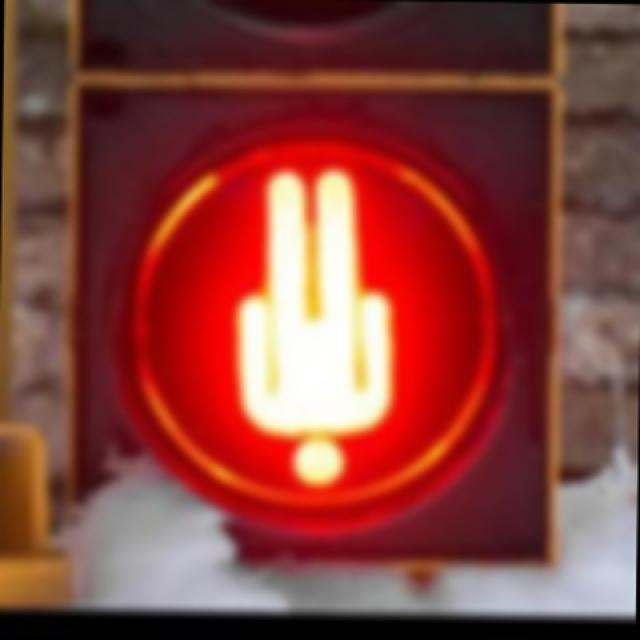red-crossing: (100, 102, 534, 534)
